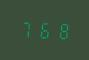eight: (53, 20, 69, 40)
seven: (18, 19, 34, 39)
six: (36, 19, 52, 40)
